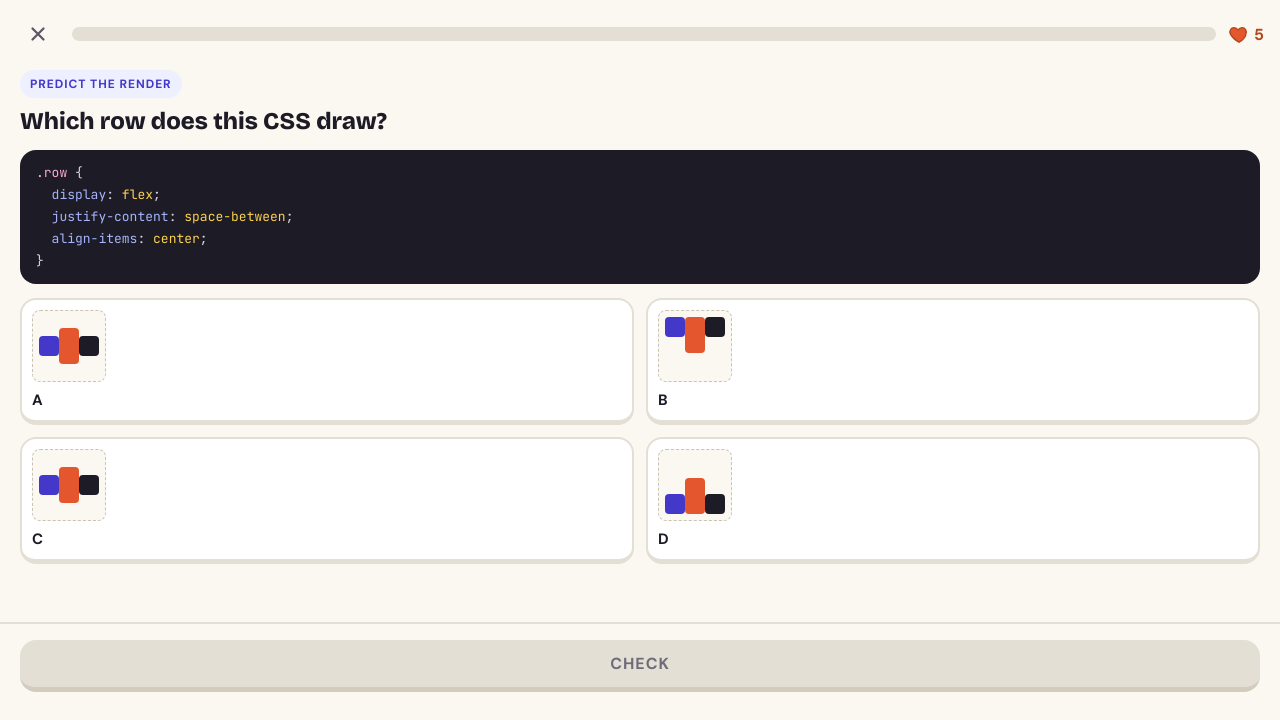
Test case: Quiz with predict questions › marks a wrong pick with text, shows the answer and costs a heart
Click the button named "Option A:". click: [69, 346]
box: [20,298,634,425]
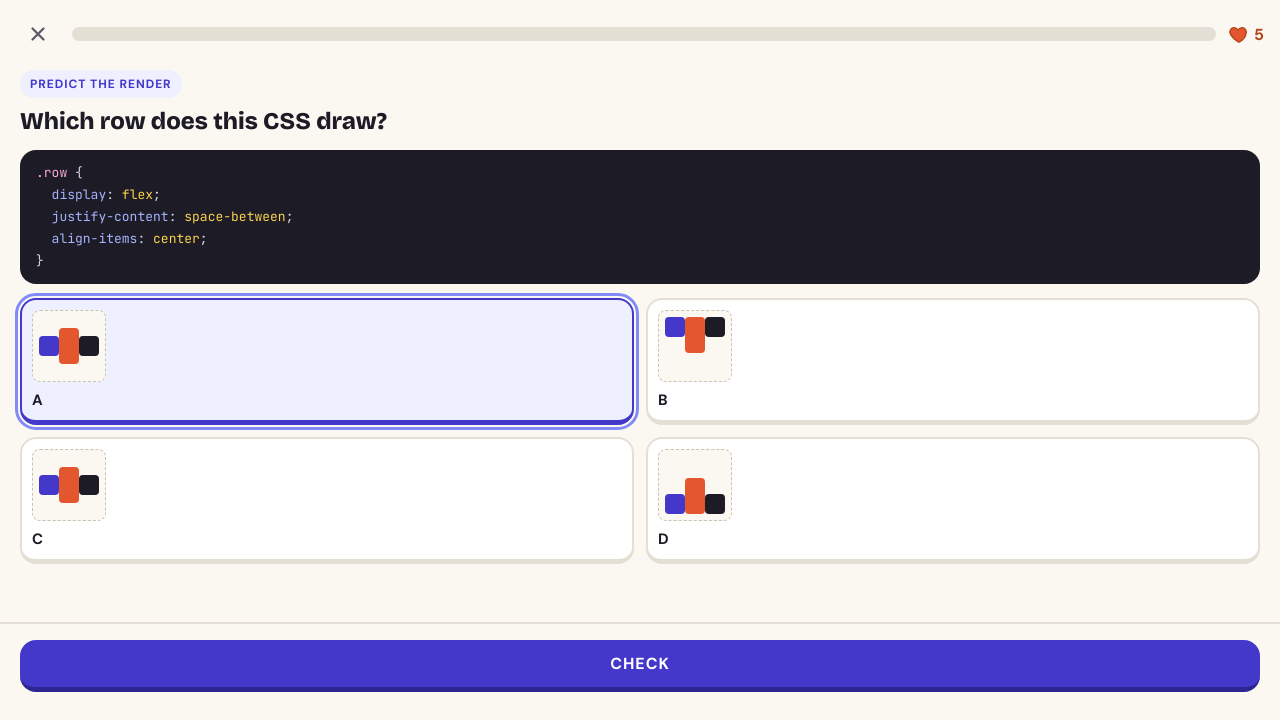
Click the button "Check". click: [640, 666]
box: [20,640,1260,692]
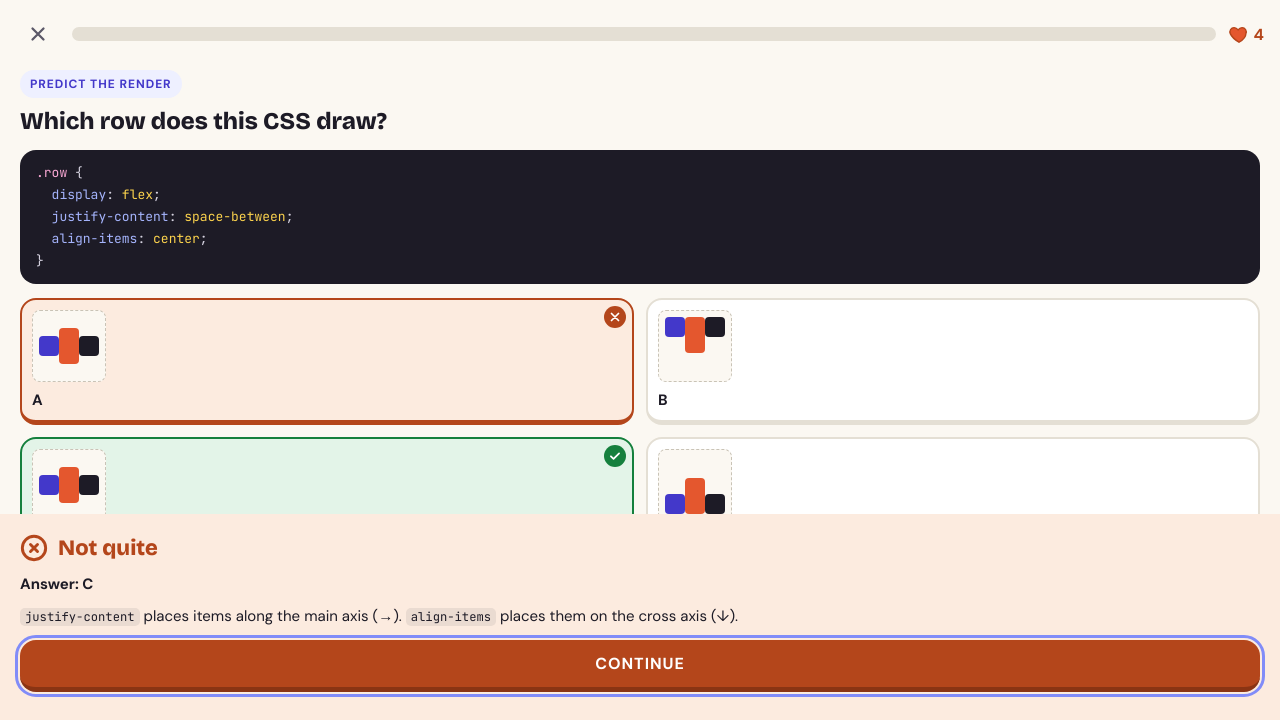
Expected: the button "A" is shown, [20,298,634,425]
Expected: the element named "Feedback" shows "Not quite", [58,535,158,561]
Expected: the element named "Feedback" shows "Answer: C", [20,574,93,594]
